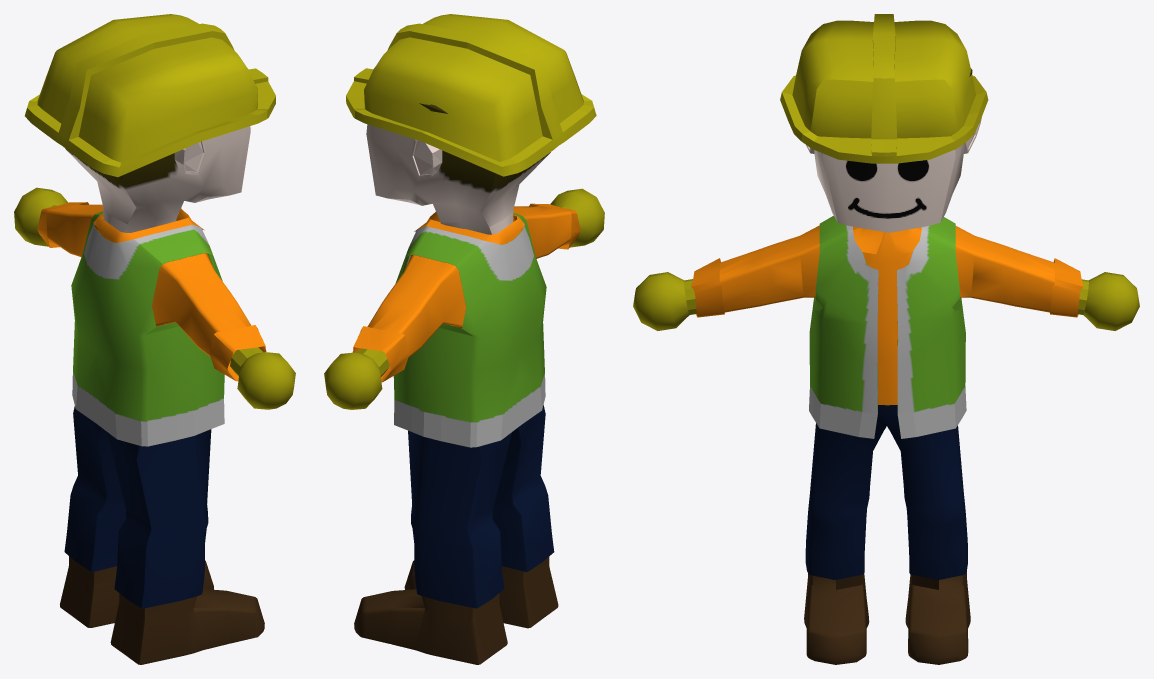
Rendered from Rubbish Raiders man.fbx.
3 views of the same model, side by side, from view 1: azimuth 30°, elevation 25°; view 2: azimuth 150°, elevation 25°; view 3: azimuth 270°, elevation 25° (orthographic).
Visible parts, largest first — view 1: hard hat, character template jack, character template tr, character template shoe, character template t shirt, head, character template hands; view 2: hard hat, character template jack, character template tr, character template shoe, character template t shirt, head, character template hands; view 3: character template jack, hard hat, character template t shirt, character template tr, character template shoe, head, character template hands.
Boxes of the visible parts, x1,y1,x2,y2 form: hard hat: [25, 14, 275, 177]; character template jack: [71, 211, 224, 446]; character template tr: [64, 406, 211, 608]; character template shoe: [60, 556, 264, 664]; character template t shirt: [37, 202, 266, 381]; head: [65, 126, 250, 232]; character template hands: [14, 187, 295, 409]; hard hat: [346, 14, 596, 176]; character template jack: [393, 213, 546, 447]; character template tr: [408, 405, 554, 608]; character template shoe: [354, 557, 558, 664]; character template t shirt: [352, 203, 580, 382]; head: [366, 103, 550, 234]; character template hands: [324, 188, 604, 409]; character template jack: [809, 215, 966, 438]; hard hat: [780, 14, 988, 163]; character template t shirt: [691, 225, 1083, 405]; character template tr: [805, 405, 967, 579]; character template shoe: [804, 571, 970, 664]; head: [806, 68, 981, 232]; character template hands: [633, 272, 1139, 330].
Bounding box in the file's own units: 22.11 × 62.03 × 48.42.
Materials: 7 (7 with a texture image).
